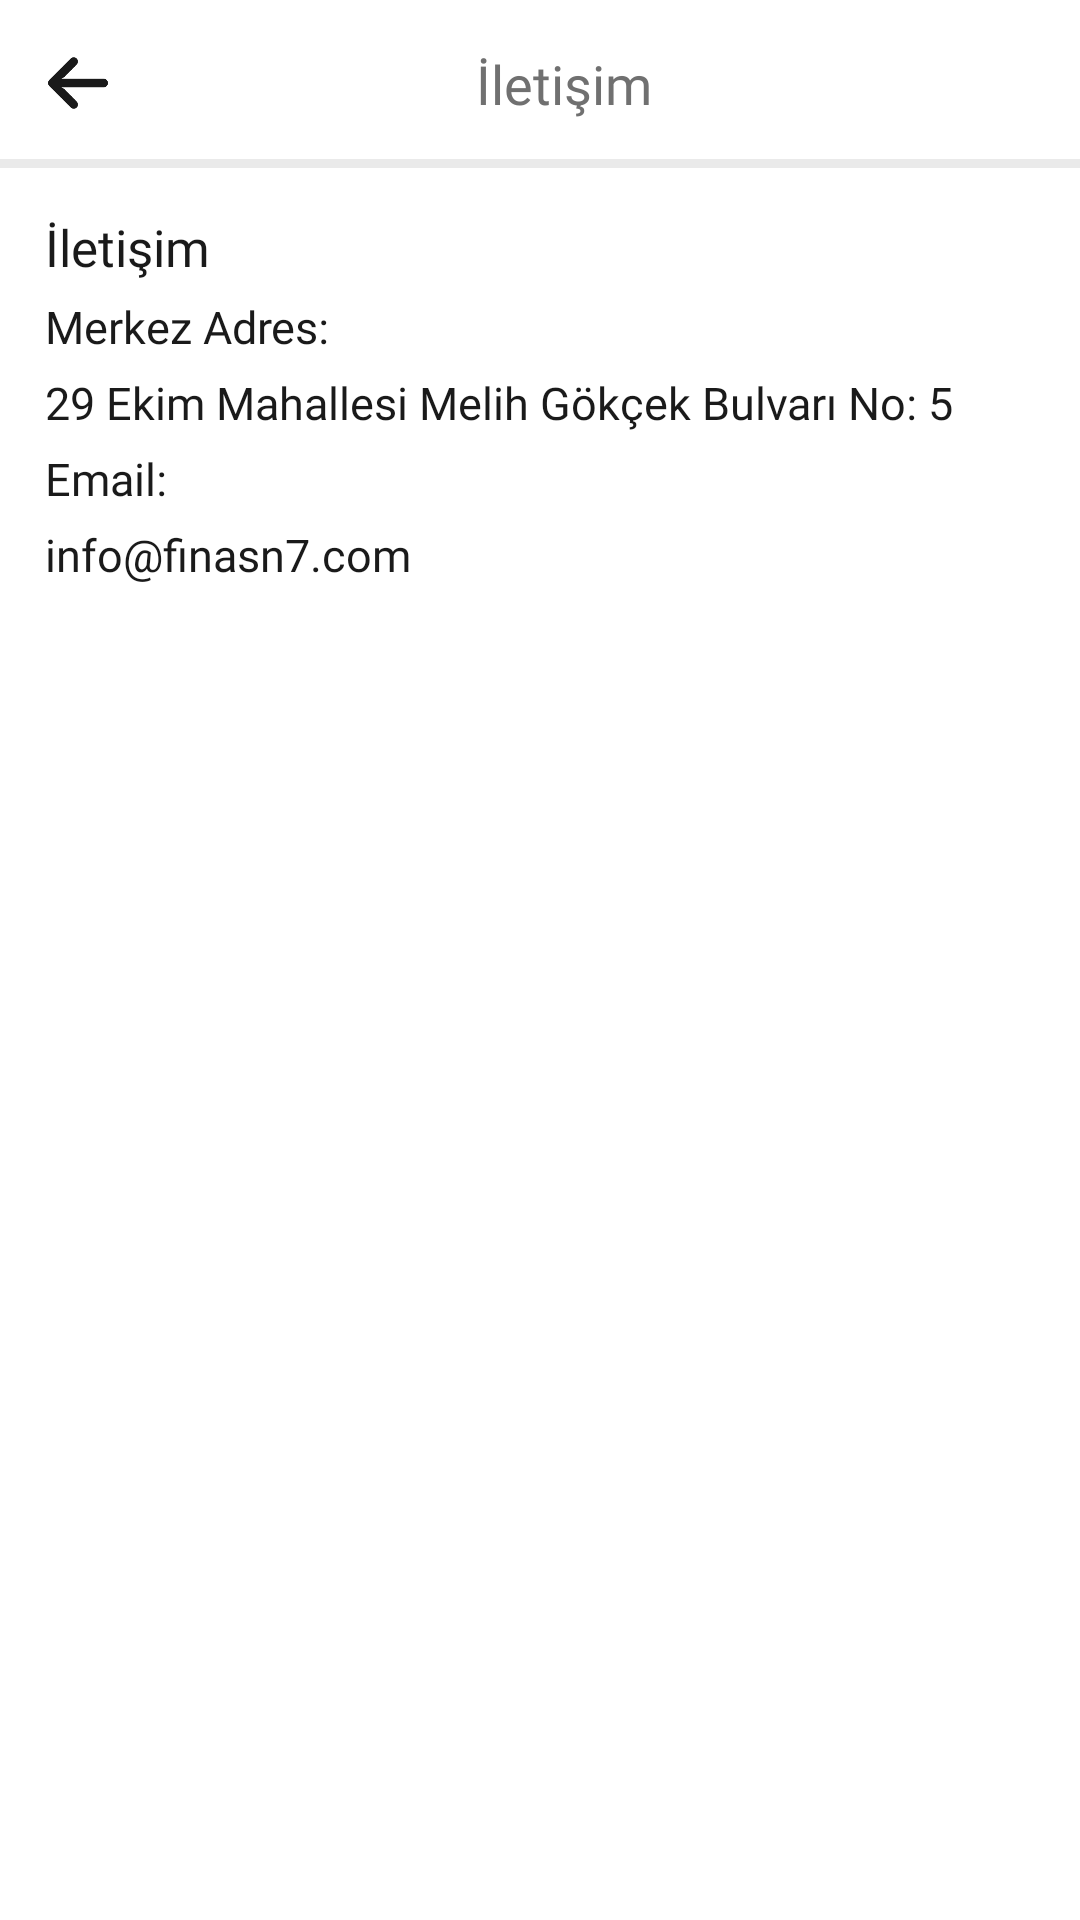

Icon bounding boxes for this 1080 x 1920 phone screenshot, format rect(x1, y1, x2, y2):
arrow back: rect(48, 57, 108, 109)
